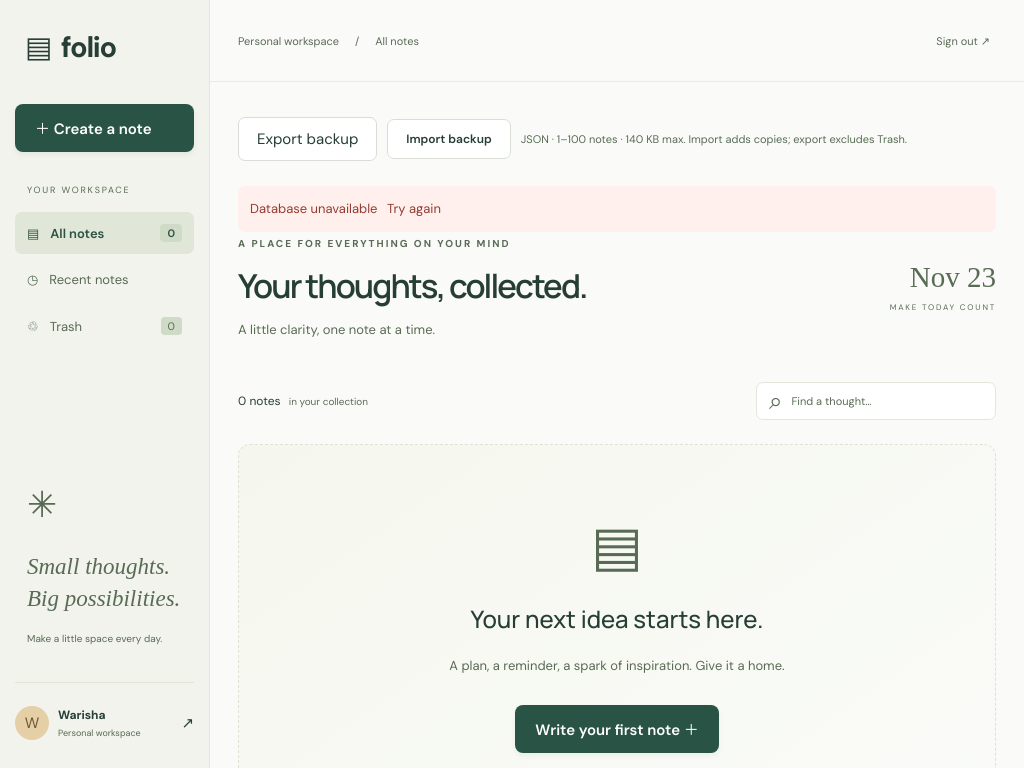
it: notes load failure supports retry without hiding the error
This screenshot has width=1024, height=768.
Expected: the message shows "Database unavailable", [250, 200, 377, 217]
What coordinates should you click on to do the following:
click the button "Try again"
I would click on:
 (414, 209)
Its box is [381, 198, 447, 220].
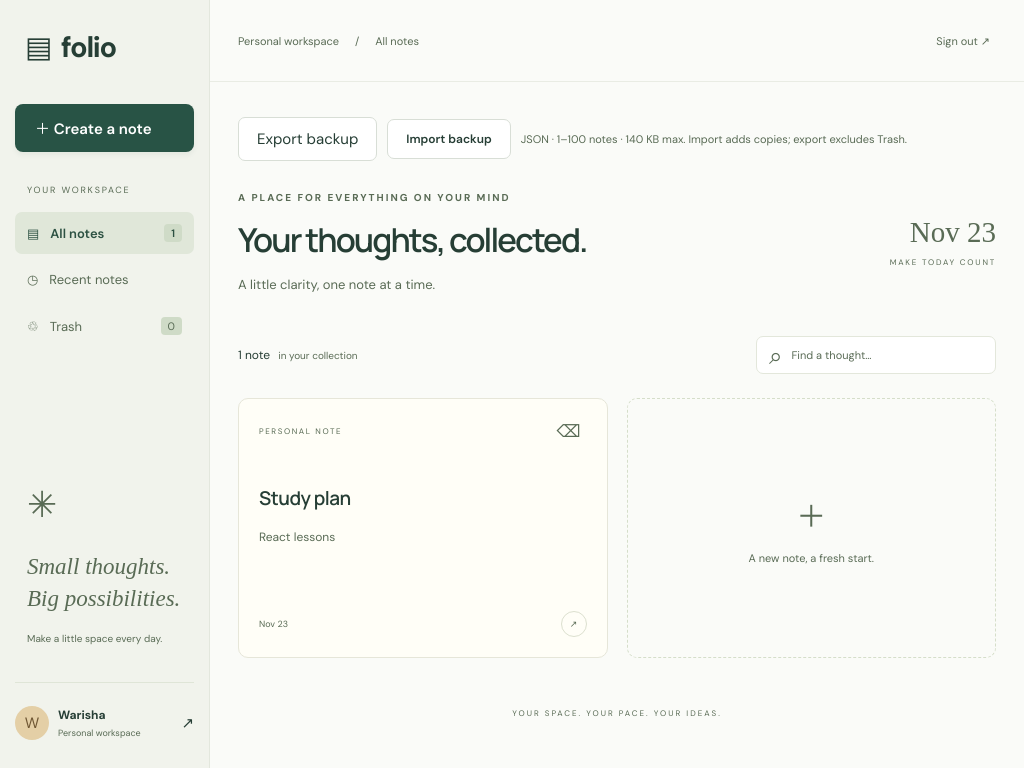
Now the heading "Study plan" is shown, box [259, 485, 351, 511]
